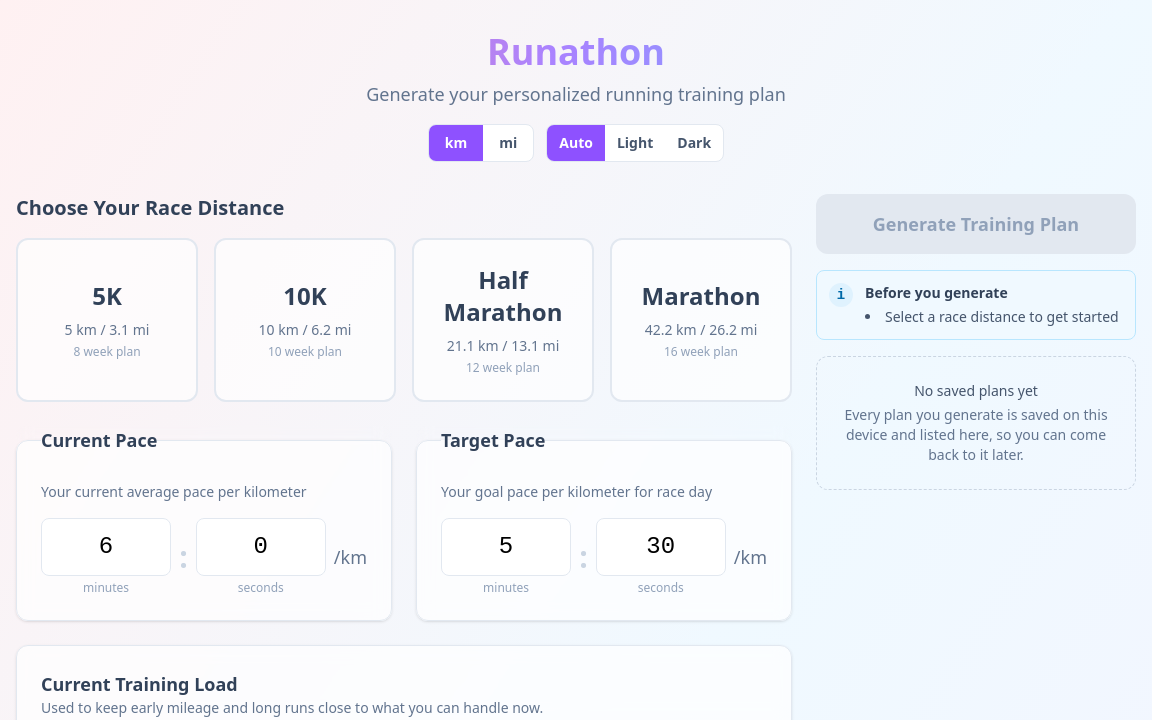
Scenario: App › disables plan generation when clearing the current pace to zero
Click the button with aria-label "5K, 5 kilometers".
click(107, 320)  # box [16,238,198,402]
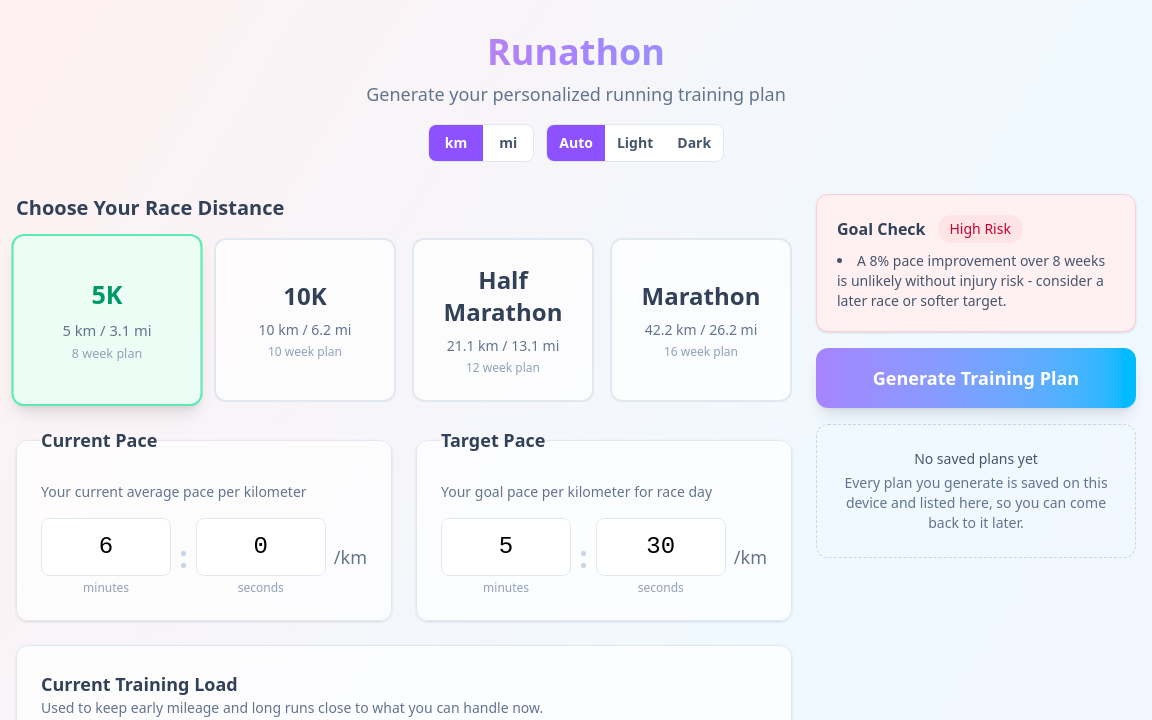
Expected: the button with aria-label "generate your personalized training plan" is enabled, [816,348,1136,408]
Clear the 1st field named "Current Pace minutes" at (106, 547), box [41,518,171,576]
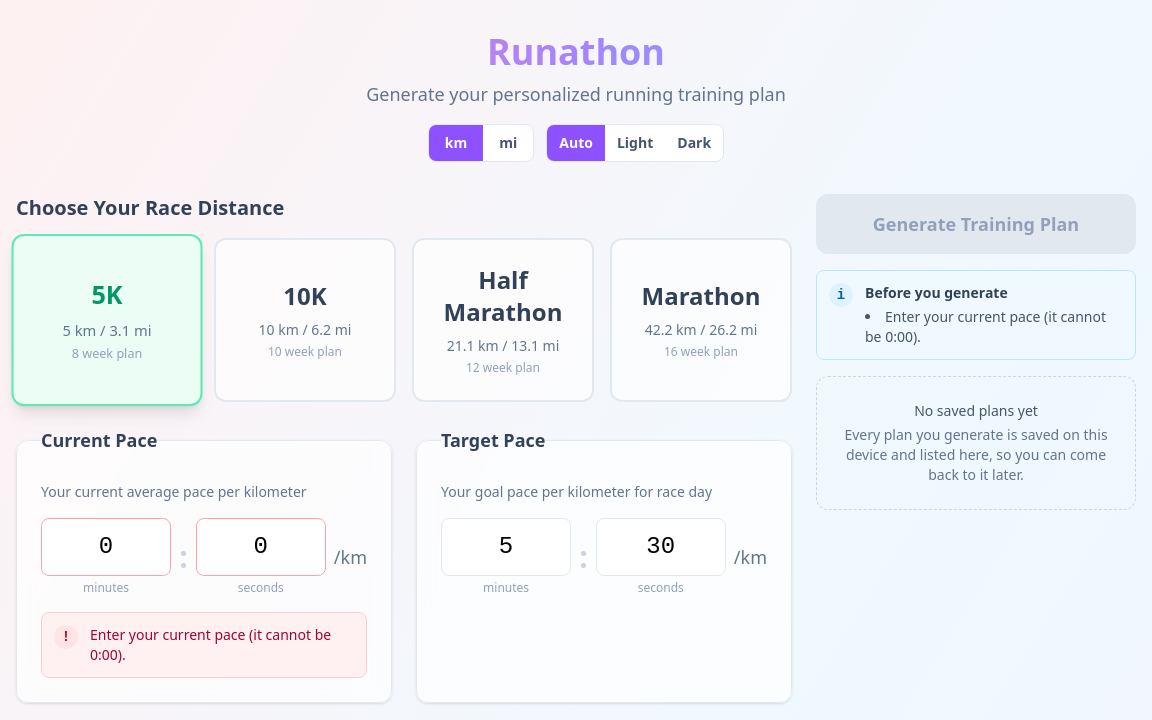
Expected: the 1st field named "Current Pace minutes" holds "0", [41,518,171,576]
Expected: the button named "generate your personalized training plan" is disabled, [816,194,1136,254]
